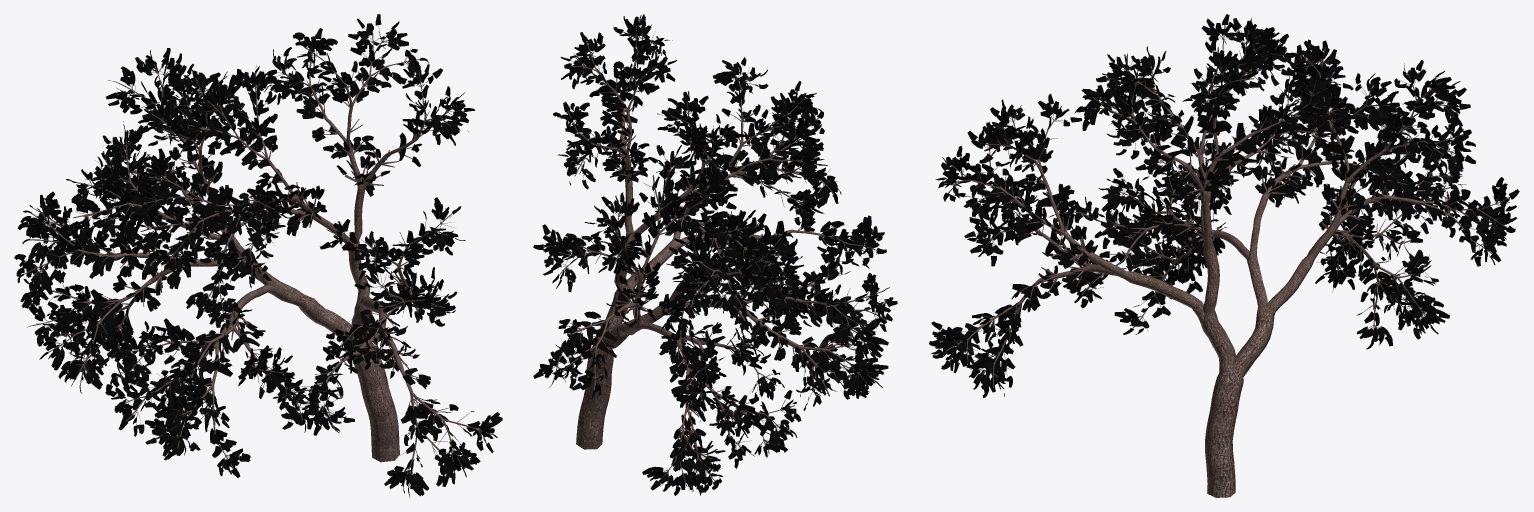
File: tree2.fbx
3 renders of one model, left to right at view 1: azimuth 30°, elevation 25°; view 2: azimuth 150°, elevation 25°; view 3: azimuth 270°, elevation 25°, orthographic. The views are drawn at different scales.
Parts seen in each view (by area): view 1: treeLeafy1Leaf, treeLeafy1Main; view 2: treeLeafy1Leaf, treeLeafy1Main; view 3: treeLeafy1Leaf, treeLeafy1Main.
Part boxes in pixels (box(x1,y1,x2,y2)): treeLeafy1Leaf: box(14, 14, 502, 497); treeLeafy1Main: box(24, 26, 494, 486); treeLeafy1Leaf: box(533, 14, 897, 495); treeLeafy1Main: box(543, 25, 886, 487); treeLeafy1Leaf: box(929, 14, 1519, 397); treeLeafy1Main: box(939, 25, 1510, 497).
Size of the model in its own units: 17.67 by 22.94 by 27.72.
